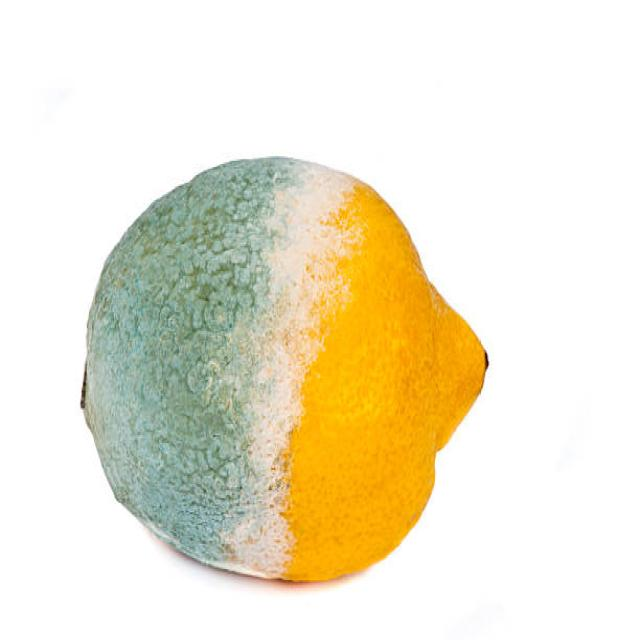Rotten: (79, 153, 488, 581)
